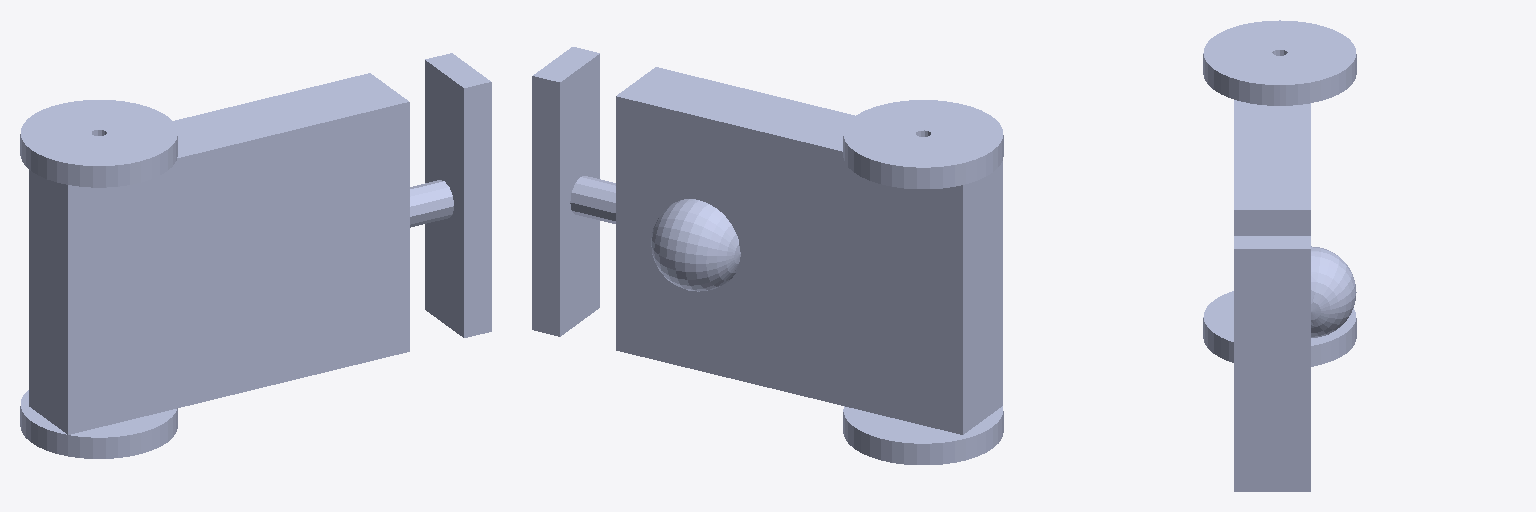
URDF robot description (farhaad):
<?xml version="1.0" encoding="utf-8"?>
<!-- This URDF was automatically created by SolidWorks to URDF Exporter! Originally created by [author] ([email redacted]) 
     Commit Version: 1.6.0-1-g15f4949  Build Version: 1.6.7594.29634
     For more information, please see http://wiki.ros.org/sw_urdf_exporter -->
<robot
  name="farhaad">
  <link
    name="base_link">
    <inertial>
      <origin
        xyz="0.031602 1.1884E-17 0.048366"
        rpy="0 0 0" />
      <mass
        value="5" />
      <inertia
        ixx="0.21035"
        ixy="4.2682E-17"
        ixz="0.003449"
        iyy="0.55316"
        iyz="-3.0623E-19"
        izz="0.72715" />
    </inertial>
    <visual>
      <origin
        xyz="0 0 0"
        rpy="0 0 0" />
      <geometry>
        <mesh
          filename="package://farhaad/meshes/base_link.STL" />
      </geometry>
      <material
        name="">
        <color
          rgba="0.79216 0.81961 0.93333 1" />
      </material>
    </visual>
    <collision>
      <origin
        xyz="0 0 0"
        rpy="0 0 0" />
      <geometry>
        <mesh
          filename="package://farhaad/meshes/base_link.STL" />
      </geometry>
    </collision>
  </link>
  <link
    name="Left_Link">
    <inertial>
      <origin
        xyz="2.7756E-17 6.9389E-18 -0.015"
        rpy="0 0 0" />
      <mass
        value="1" />
      <inertia
        ixx="0.0024259"
        ixy="-3.5994E-39"
        ixz="5.8691E-35"
        iyy="0.0024259"
        iyz="-2.7593E-36"
        izz="0.0047119" />
    </inertial>
    <visual>
      <origin
        xyz="0 0 0"
        rpy="0 0 0" />
      <geometry>
        <mesh
          filename="package://farhaad/meshes/Left_Link.STL" />
      </geometry>
      <material
        name="">
        <color
          rgba="0.79216 0.81961 0.93333 1" />
      </material>
    </visual>
    <collision>
      <origin
        xyz="0 0 0"
        rpy="0 0 0" />
      <geometry>
        <mesh
          filename="package://farhaad/meshes/Left_Link.STL" />
      </geometry>
    </collision>
  </link>
  <joint
    name="left_joint"
    type="continuous">
    <origin
      xyz="-0.17 -0.04 0.175"
      rpy="3.1416 0 0" />
    <parent
      link="base_link" />
    <child
      link="Left_Link" />
    <axis
      xyz="0 0 -1" />
  </joint>
  <link
    name="Right_Link">
    <inertial>
      <origin
        xyz="2.7756E-17 6.9389E-18 0.015"
        rpy="0 0 0" />
      <mass
        value="1" />
      <inertia
        ixx="0.0024259"
        ixy="-3.5994E-39"
        ixz="5.8691E-35"
        iyy="0.0024259"
        iyz="-2.7593E-36"
        izz="0.0047119" />
    </inertial>
    <visual>
      <origin
        xyz="0 0 0"
        rpy="0 0 0" />
      <geometry>
        <mesh
          filename="package://farhaad/meshes/Right_Link.STL" />
      </geometry>
      <material
        name="">
        <color
          rgba="0.79216 0.81961 0.93333 1" />
      </material>
    </visual>
    <collision>
      <origin
        xyz="0 0 0"
        rpy="0 0 0" />
      <geometry>
        <mesh
          filename="package://farhaad/meshes/Right_Link.STL" />
      </geometry>
    </collision>
  </link>
  <joint
    name="right_joint"
    type="continuous">
    <origin
      xyz="-0.17 -0.04 -0.175"
      rpy="3.1416 0 0" />
    <parent
      link="base_link" />
    <child
      link="Right_Link" />
    <axis
      xyz="0 0 -1" />
  </joint>
  <gazebo>
    <plugin filename="libgazebo_ros_diff_drive.so" name="differential_drive_controller">
      <alwaysOn>true</alwaysOn>
      <updateRate>20</updateRate>
      <leftJoint>left_joint</leftJoint>
      <rightJoint>right_joint</rightJoint>
      <wheelSeparation>0.350</wheelSeparation>
      <wheelDiameter>0.200</wheelDiameter>
      <torque>5</torque>
      <commandTopic>cmd_vel</commandTopic>
      <odometryTopic>odom</odometryTopic>
      <odometryFrame>odom</odometryFrame>
      <robotBaseFrame>base_link</robotBaseFrame>
    </plugin>
  </gazebo>
</robot>

--- Render facts (derived) ---
The picture shows the robot from 3 angles, left to right: view 1: azimuth 30°, elevation 25°; view 2: azimuth 150°, elevation 25°; view 3: azimuth 270°, elevation 25°; orthographic projection.
Robot: farhaad — 3 links, 2 joints (2 continuous); root link base_link; default pose: all joints at 0.
Links seen in each view (by area): view 1: base_link, Left_Link, Right_Link; view 2: base_link, Left_Link, Right_Link; view 3: base_link, Left_Link, Right_Link.
Link boxes in pixels (x1,y1,x2,y2): base_link: (29, 53, 491, 434); Left_Link: (20, 100, 177, 187); Right_Link: (20, 390, 177, 458); base_link: (532, 47, 1002, 434); Left_Link: (843, 100, 1003, 188); Right_Link: (843, 406, 1003, 464); base_link: (1234, 100, 1356, 491); Left_Link: (1203, 20, 1356, 105); Right_Link: (1203, 291, 1356, 366).
Bounding box of the posed robot: 0.64 × 0.1999 × 0.41 m (x, y, z).
Meshes: 3 distinct files referenced, 3 mesh visuals loaded (3 binary STL).
